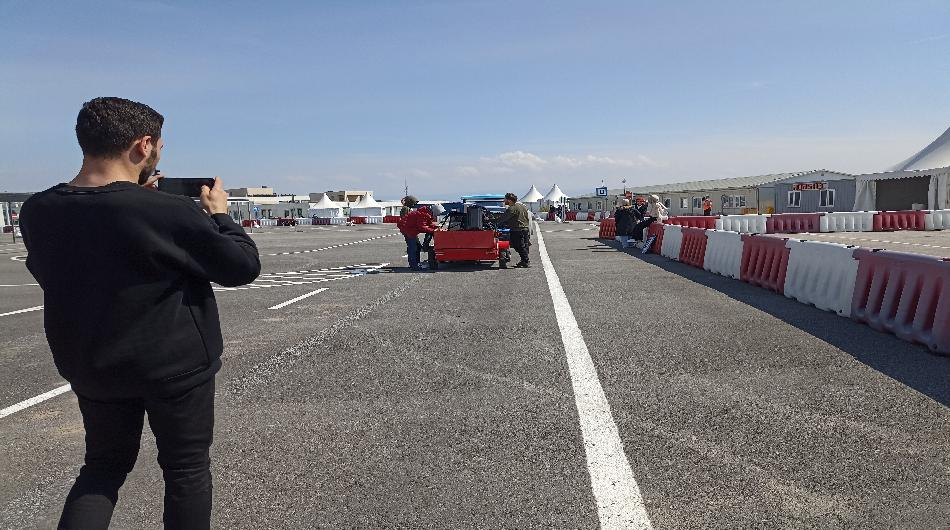yol_calismasi: (265, 215, 402, 302)
